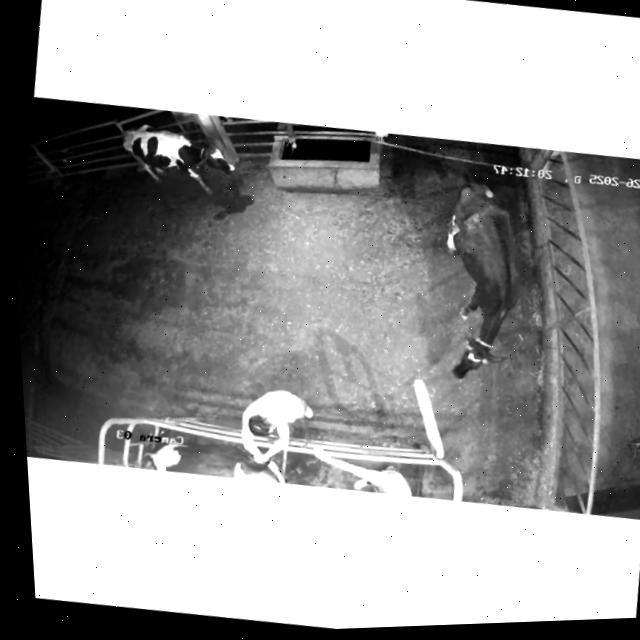stand: (447, 181, 519, 378), (124, 124, 235, 193)
